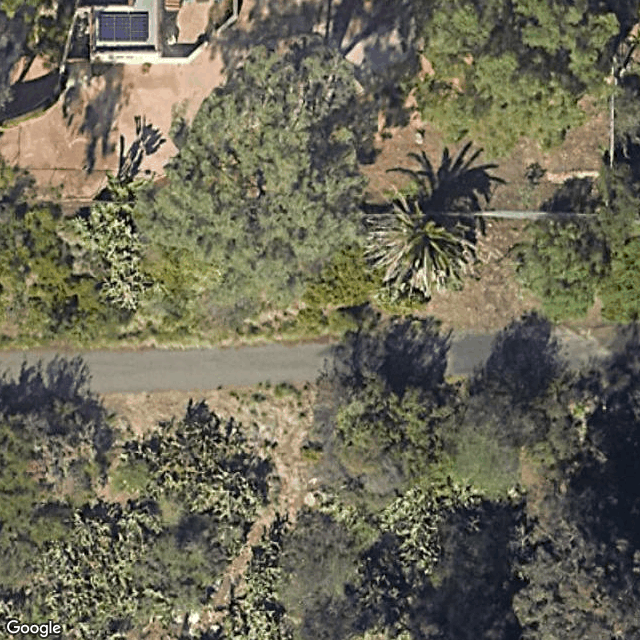palm: (359, 188, 485, 307)
